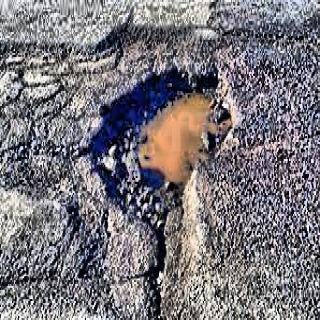alligator-crack: (14, 55, 76, 149)
pothole: (89, 68, 237, 229)
